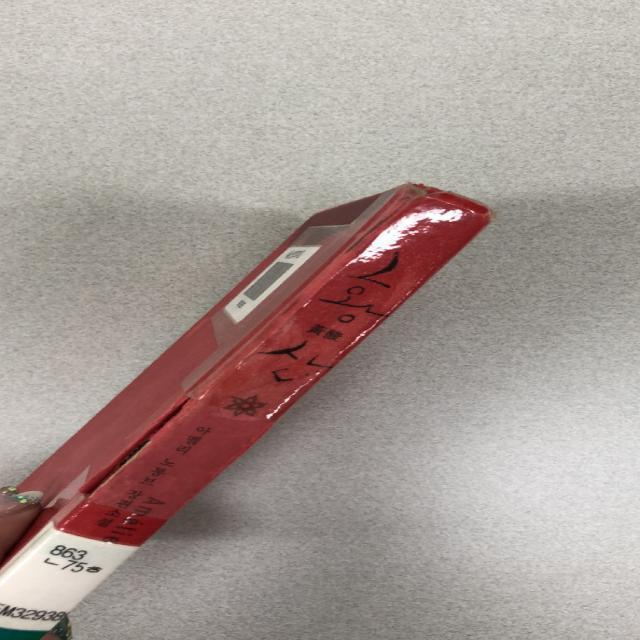Ripped: (83, 398, 192, 498), (341, 179, 432, 253)
